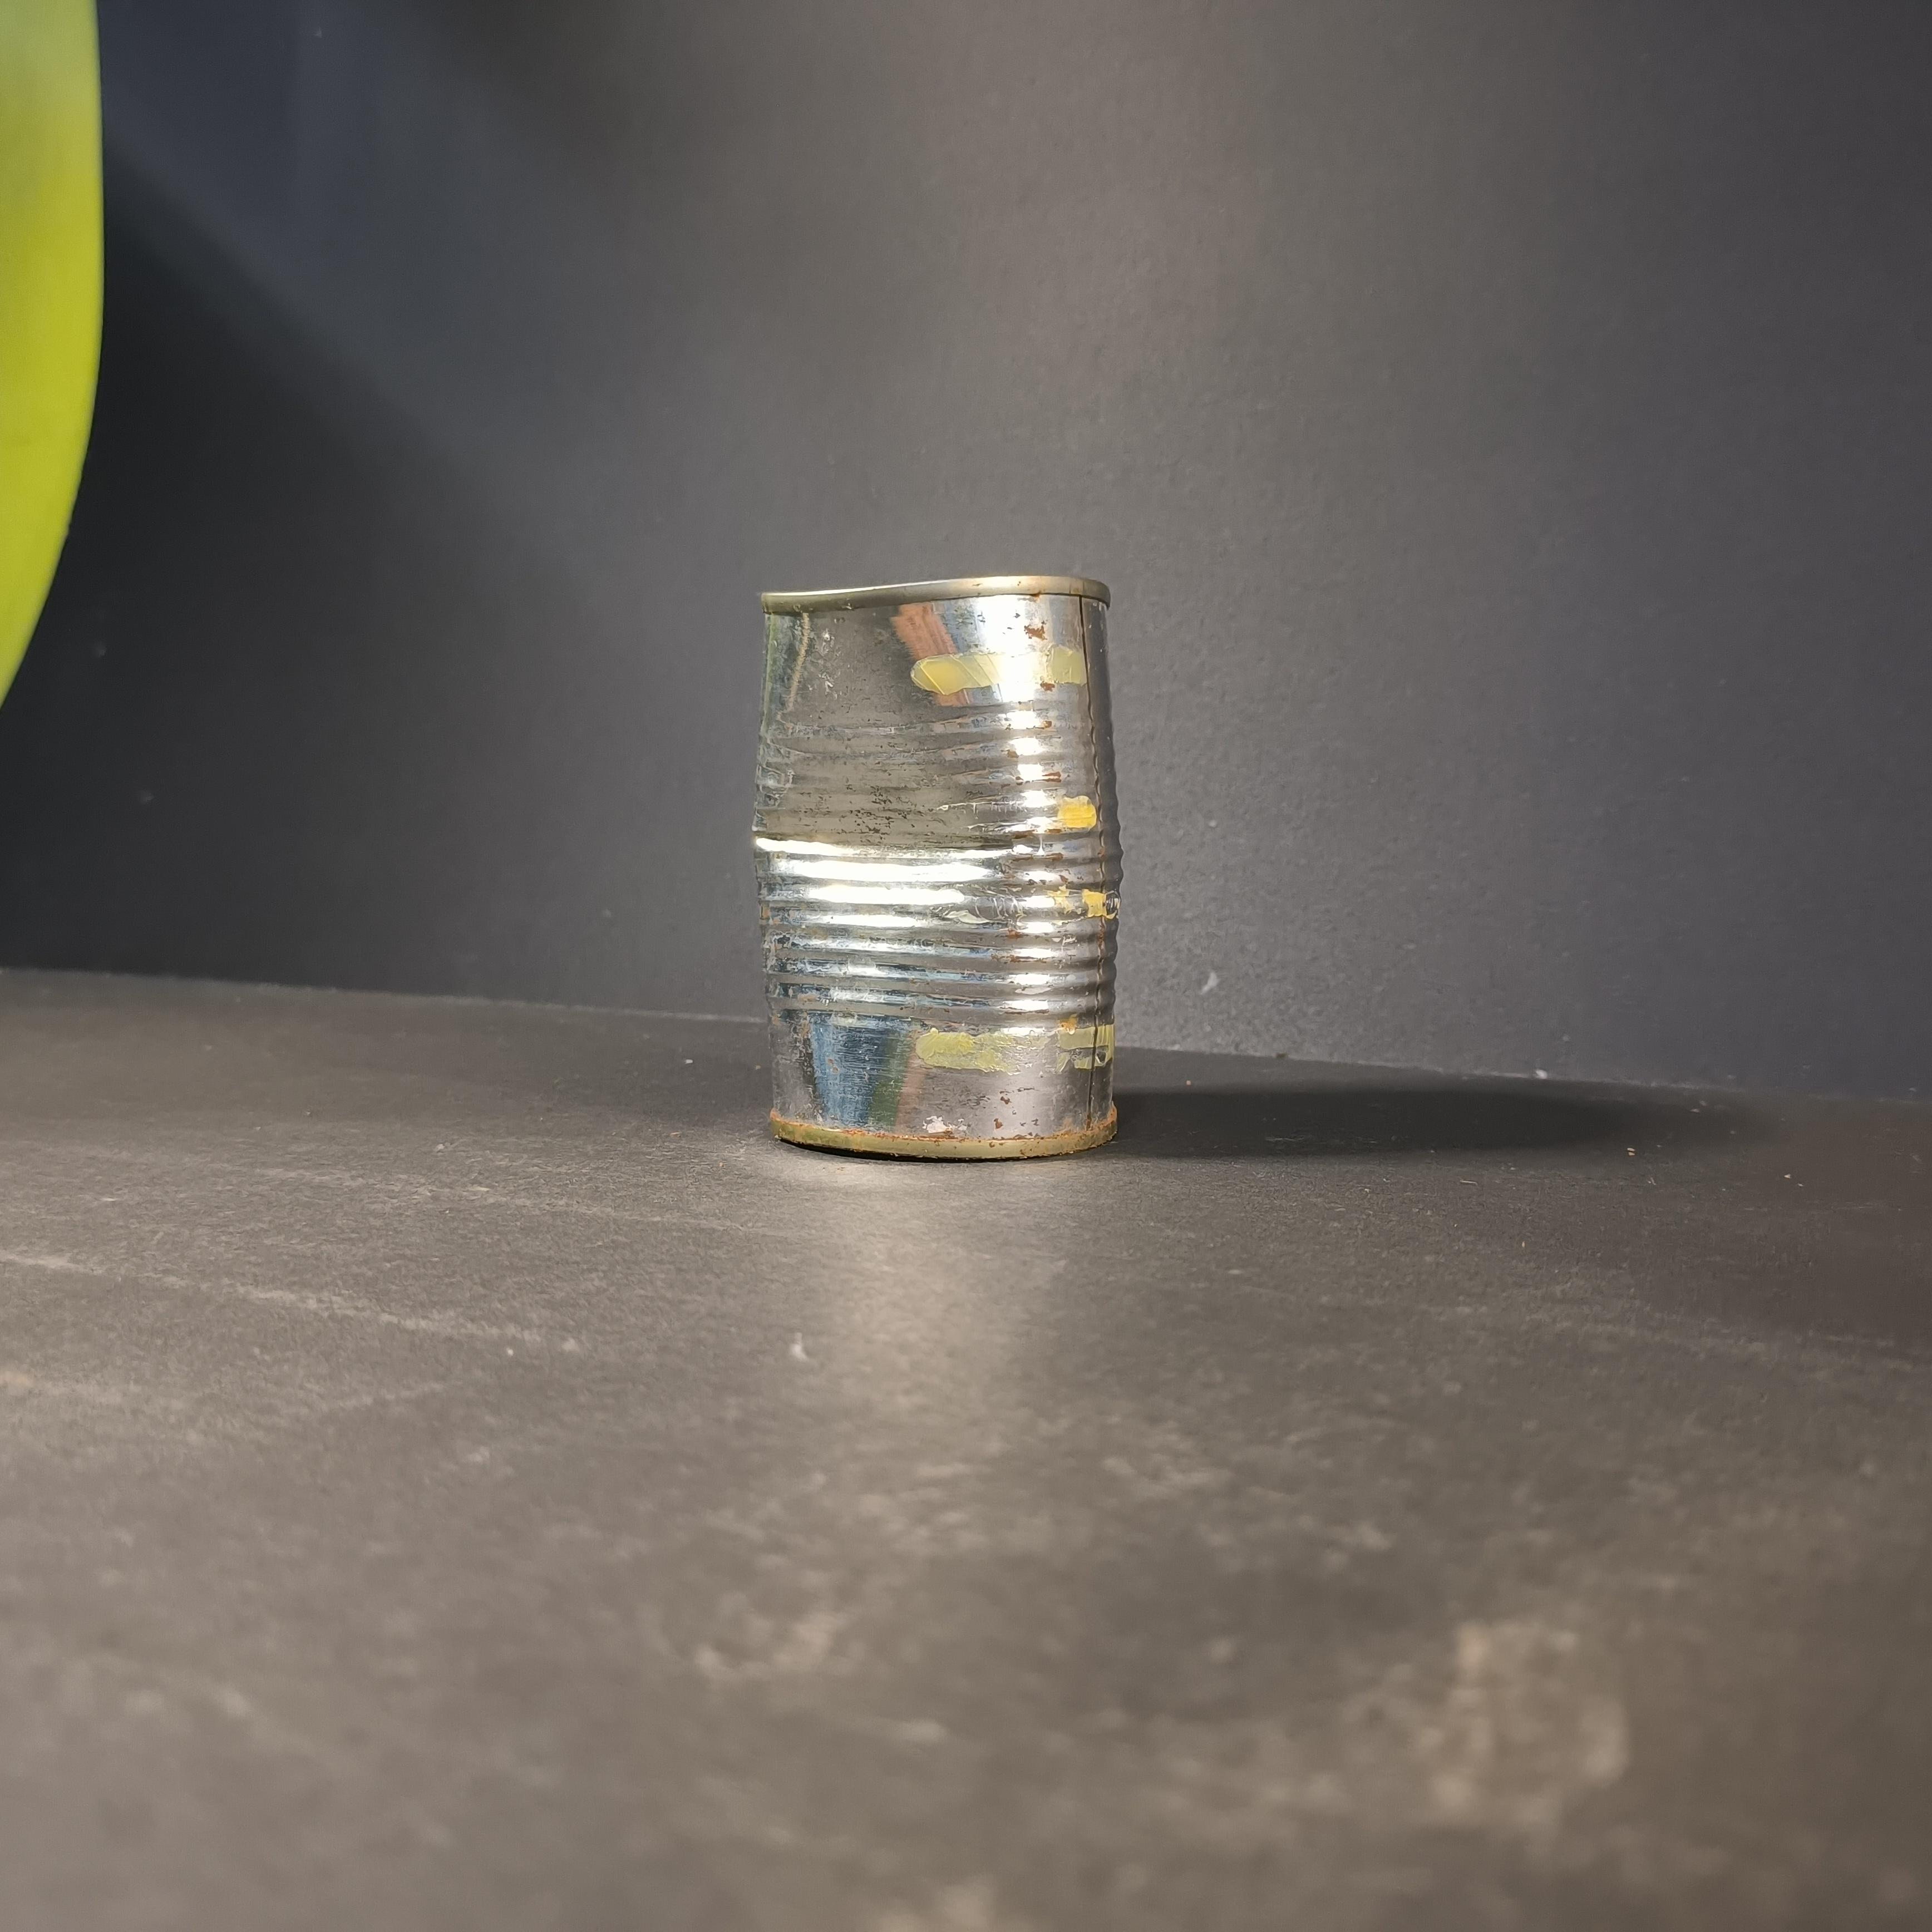Major Defect: (752, 575, 1123, 1159)
